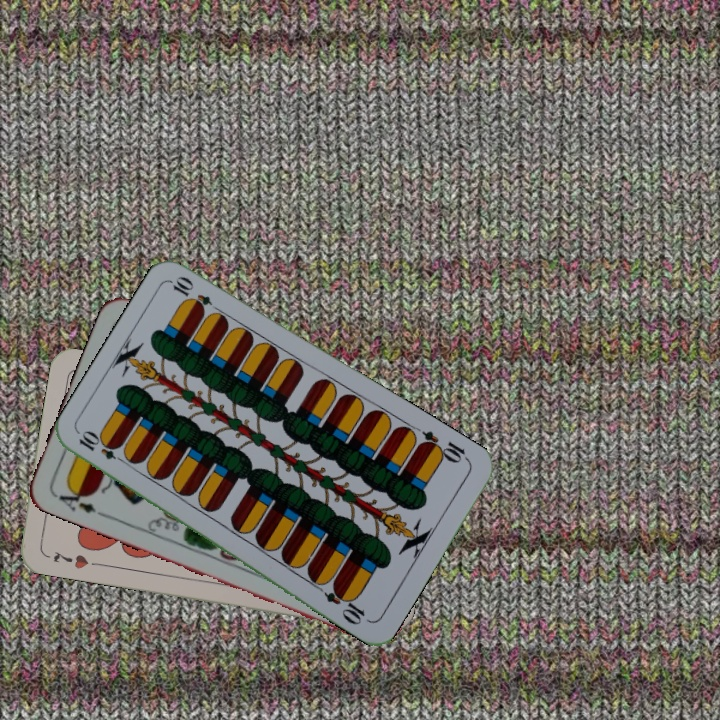E10: (415, 427, 472, 466), (74, 428, 130, 467)
EA: (51, 483, 99, 516)
H7: (49, 547, 91, 572)
